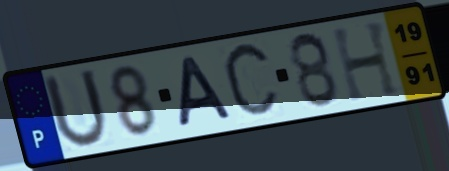8: (288, 30, 340, 112), (106, 63, 160, 140)
A: (177, 53, 236, 131)
C: (220, 37, 283, 124)
H: (328, 17, 404, 105)
U: (40, 66, 112, 152)
